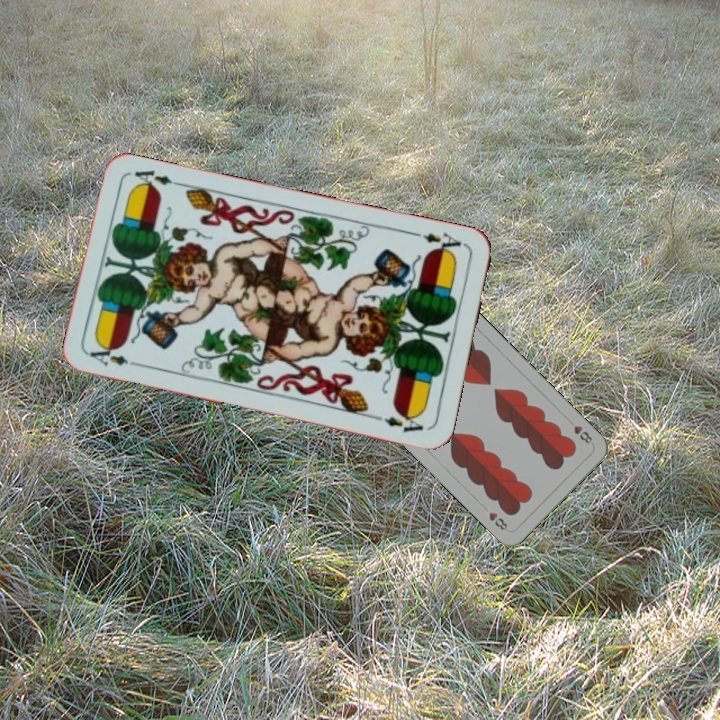EA: (408, 228, 467, 258), (86, 346, 145, 370)
H8: (570, 421, 596, 447)
